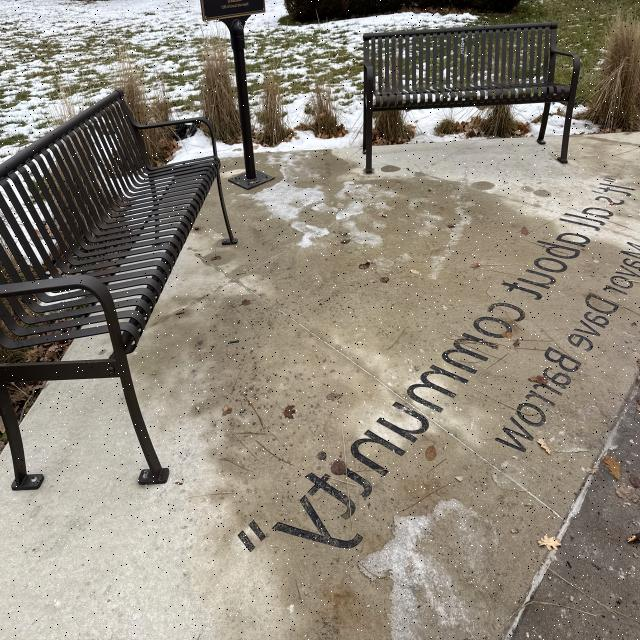Bench: (0, 85, 225, 490), (351, 28, 578, 165)
